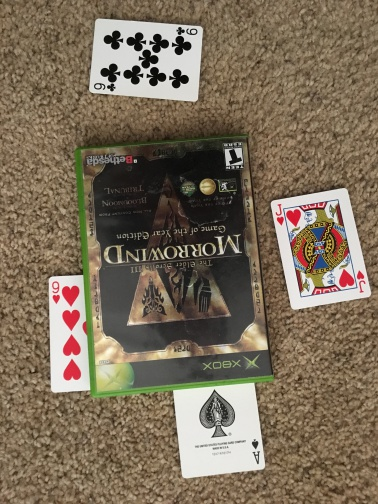ace: (171, 382, 265, 477)
jack: (269, 187, 372, 311)
nine: (90, 17, 203, 104), (48, 272, 92, 391)
